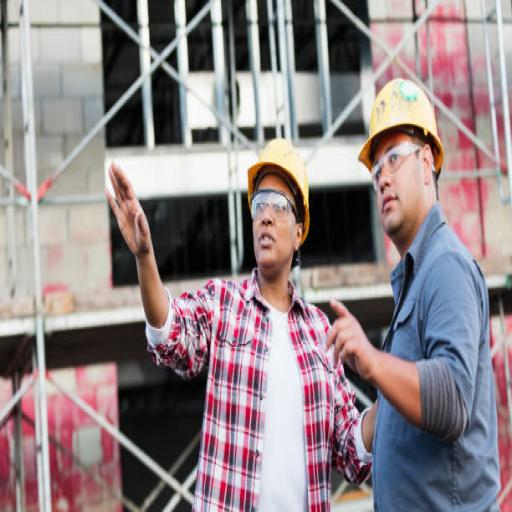No Gloves: (95, 154, 171, 279), (311, 289, 386, 388)
helmet: (356, 70, 453, 204), (238, 130, 321, 255)
no jacket: (180, 216, 369, 512)
safety glasses: (360, 130, 443, 197), (243, 181, 304, 241)
